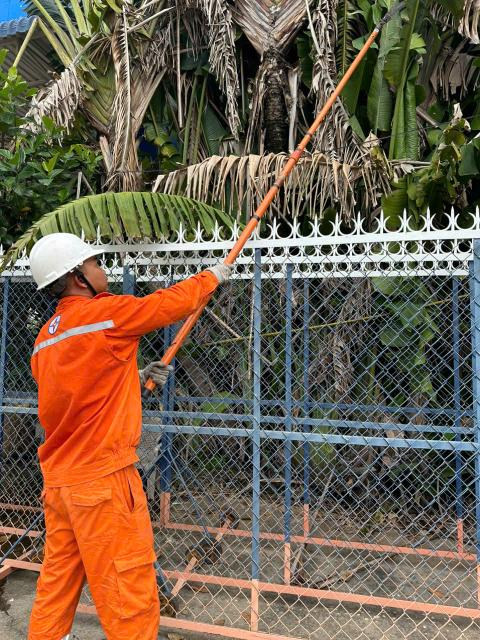gloves: (193, 248, 247, 290), (131, 356, 181, 396)
helmet: (23, 232, 104, 287)
